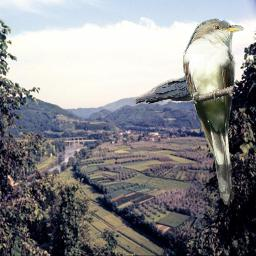Crow: (134, 56, 224, 105)
Cuckoo: (183, 18, 244, 206)
